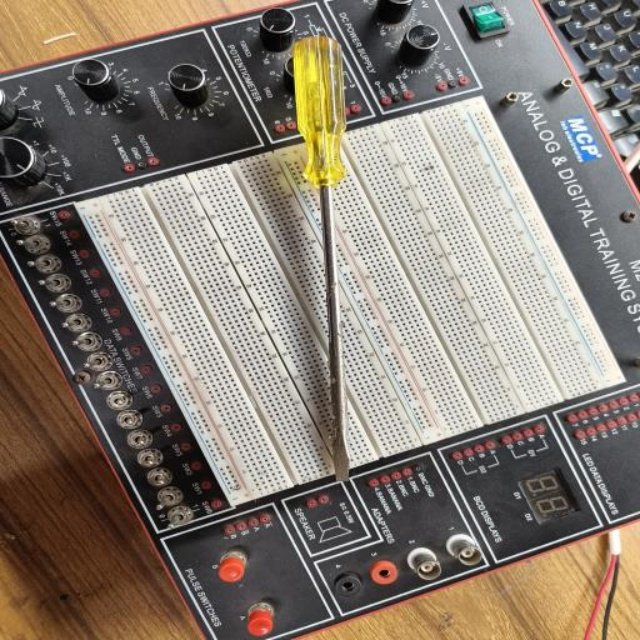screwdriver: (292, 36, 350, 483)
